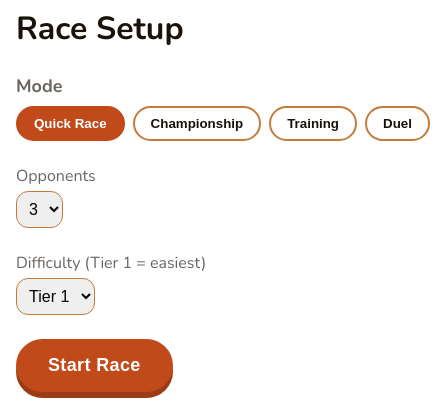
Test: RaceSetupPage › shows championship races dropdown only when championship mode is active
Expected: the field labelled "number of races" is not shown
Click the button "Championship".
click(197, 124)  # box top-left (133, 106), bottom-right (261, 141)
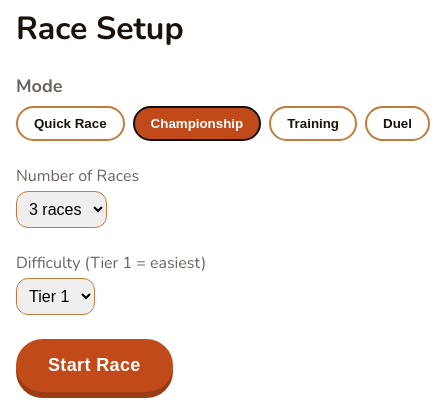
Expected: the dropdown labelled "Number of Races" is shown, top-left (16, 191), bottom-right (107, 228)
